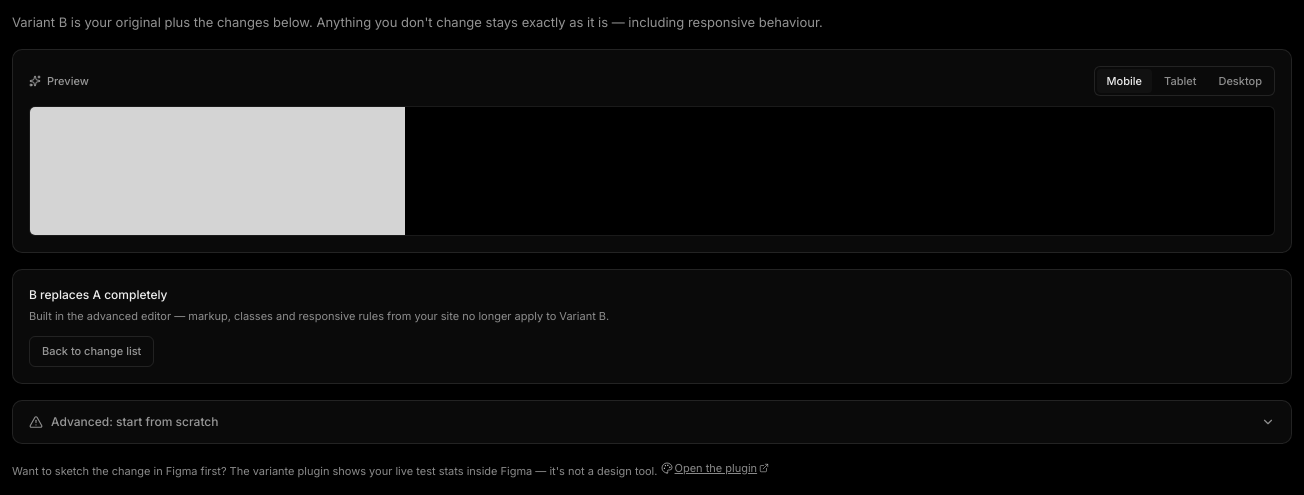
StepChange — Advanced / Scratch › "Back to change list" verwirft Scratch und kehrt zur leeren Liste zurück
This screenshot has width=1304, height=495.
Step 1. Click the button "Back to change list" → (92, 351), box x1=29 y1=336 x2=154 y2=366
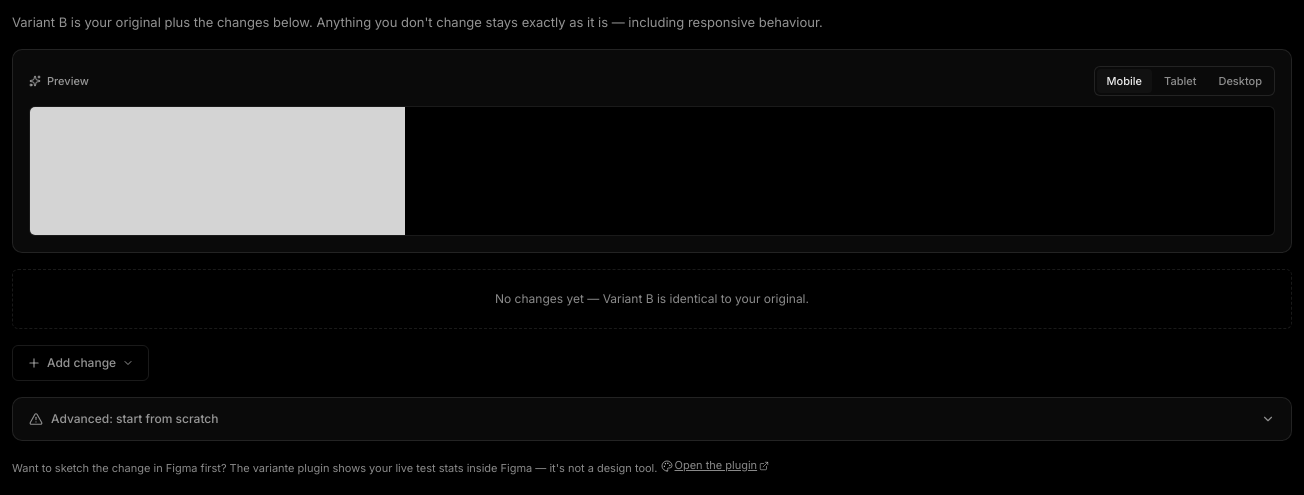
Expected: the text "No changes yet — Variant B is identical to your original." is shown, x1=12 y1=269 x2=1292 y2=329
